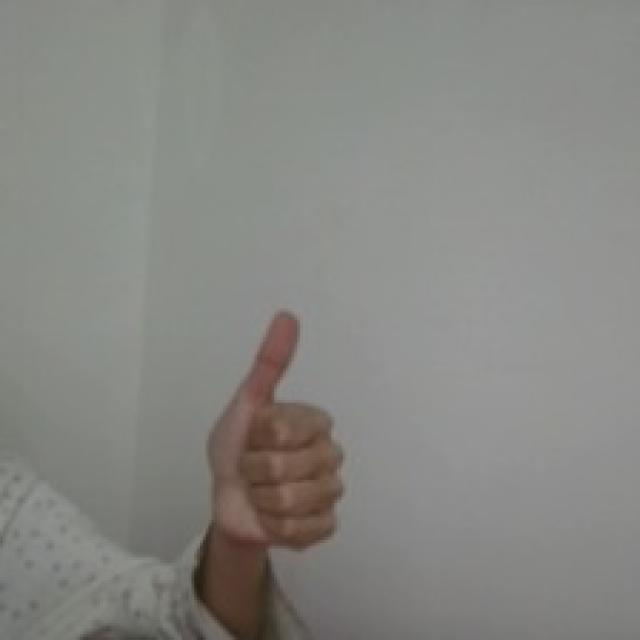fine: (197, 302, 353, 559)
